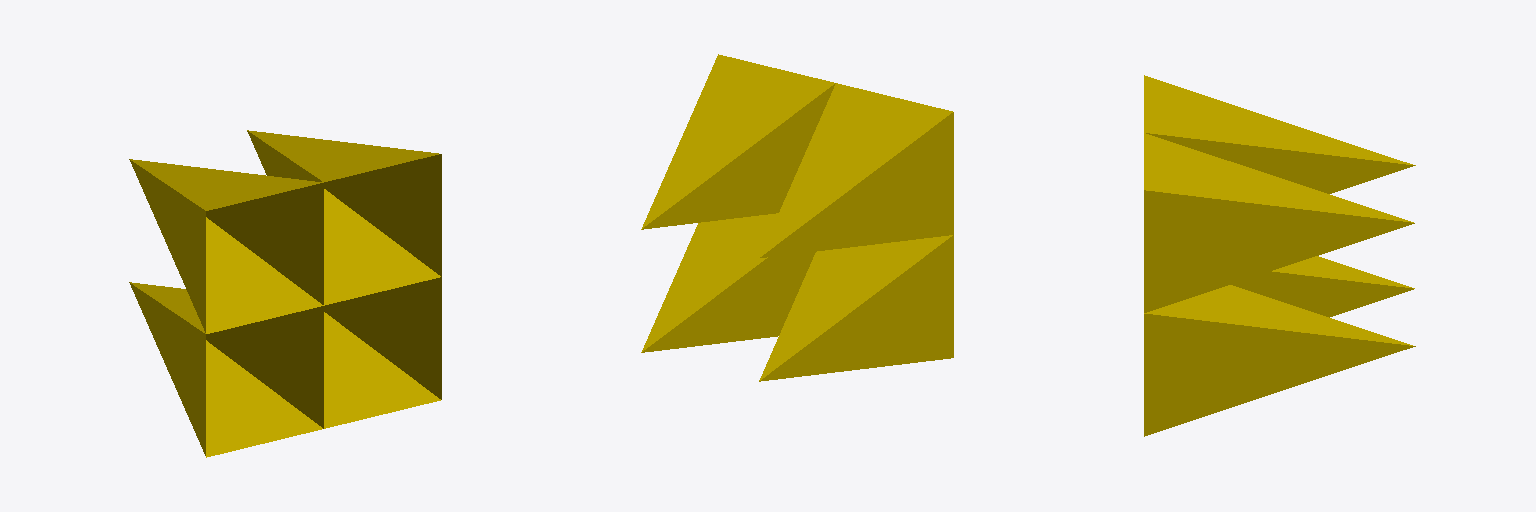
File: Spike.obj
3 renders of one model, left to right at view 1: azimuth 30°, elevation 25°; view 2: azimuth 150°, elevation 25°; view 3: azimuth 270°, elevation 25°, orthographic.
Visible parts, largest first — view 1: Spike; view 2: Spike; view 3: Spike.
Boxes of the visible parts, x1=… form: Spike: x1=129, y1=130, x2=441, y2=457; Spike: x1=641, y1=54, x2=953, y2=381; Spike: x1=1144, y1=75, x2=1415, y2=436.
Size of the model in its own units: 1 by 1 by 1.